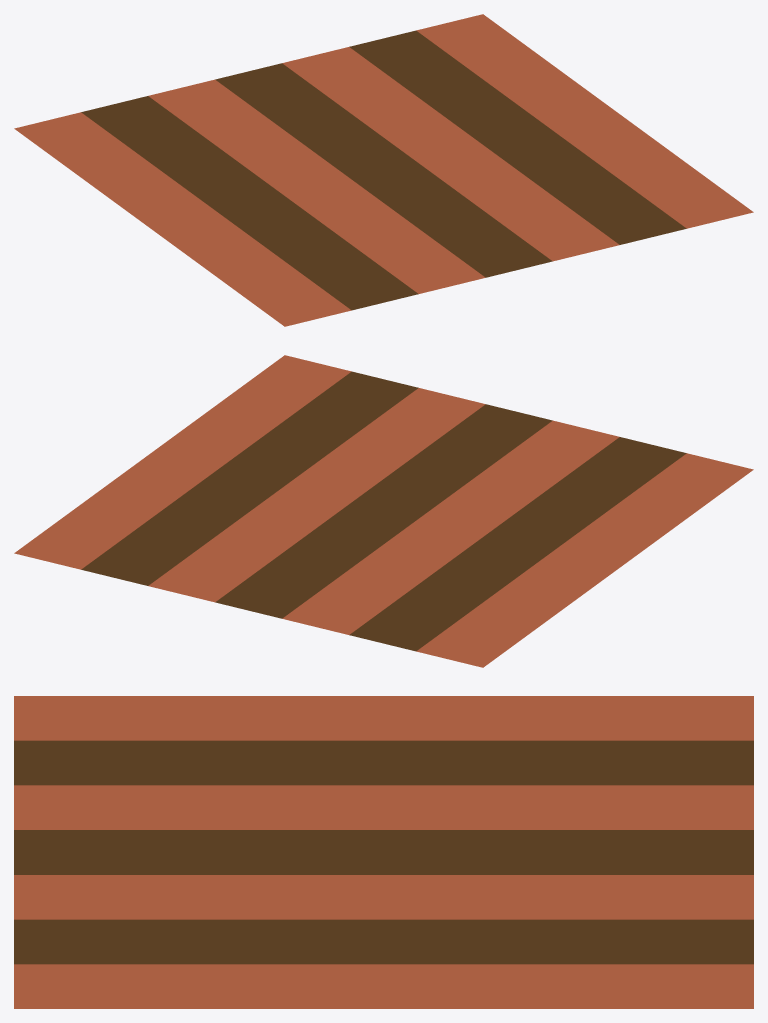
The model's file is carpet.fbx.
3 views of the same model, one above another, from view 1: azimuth 30°, elevation 25°; view 2: azimuth 150°, elevation 25°; view 3: azimuth 270°, elevation 25° (orthographic). The views are drawn at different scales.
Parts seen in each view (by area): view 1: Carpet; view 2: Carpet; view 3: Carpet.
Part boxes in pixels (x1,y1,x2,y2): Carpet: (14, 14, 753, 326); Carpet: (14, 355, 753, 667); Carpet: (14, 696, 753, 1008).
Size of the model in its own units: 2430 by 0 by 2430.
